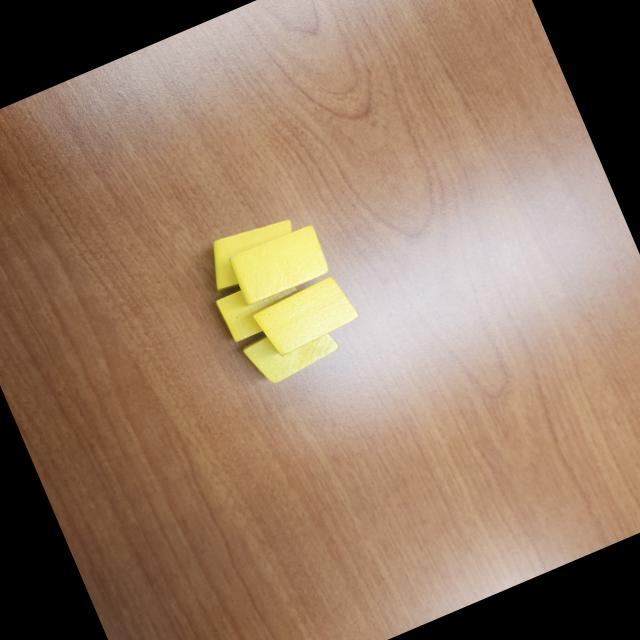yellow: (250, 270, 364, 361), (224, 220, 335, 308), (196, 208, 306, 294), (238, 308, 344, 392), (214, 267, 310, 344)
